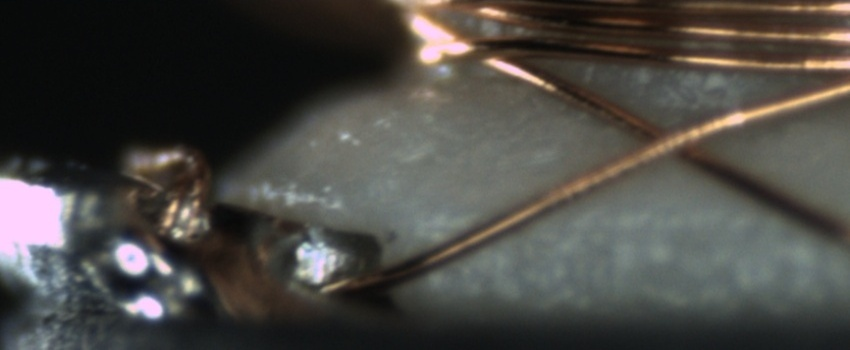CL: (620, 108, 719, 173)
DL: (548, 188, 778, 253)
TE: (98, 136, 221, 257)
